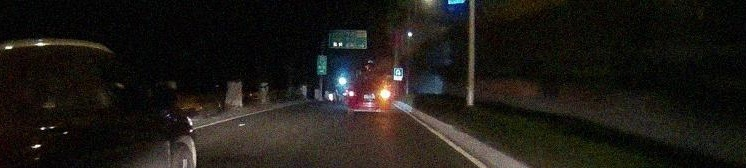L_light: (348, 90, 355, 97)
R_light: (380, 89, 391, 98)
T_light: (363, 80, 373, 83)
night-right: (347, 79, 392, 114)
